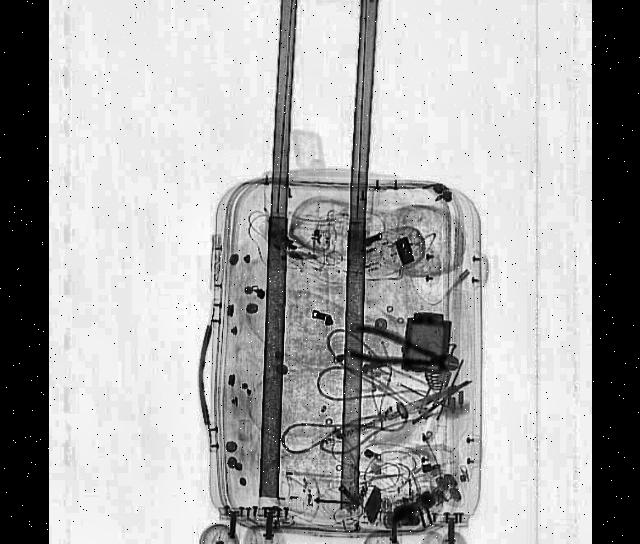Pliers: (349, 320, 461, 384)
